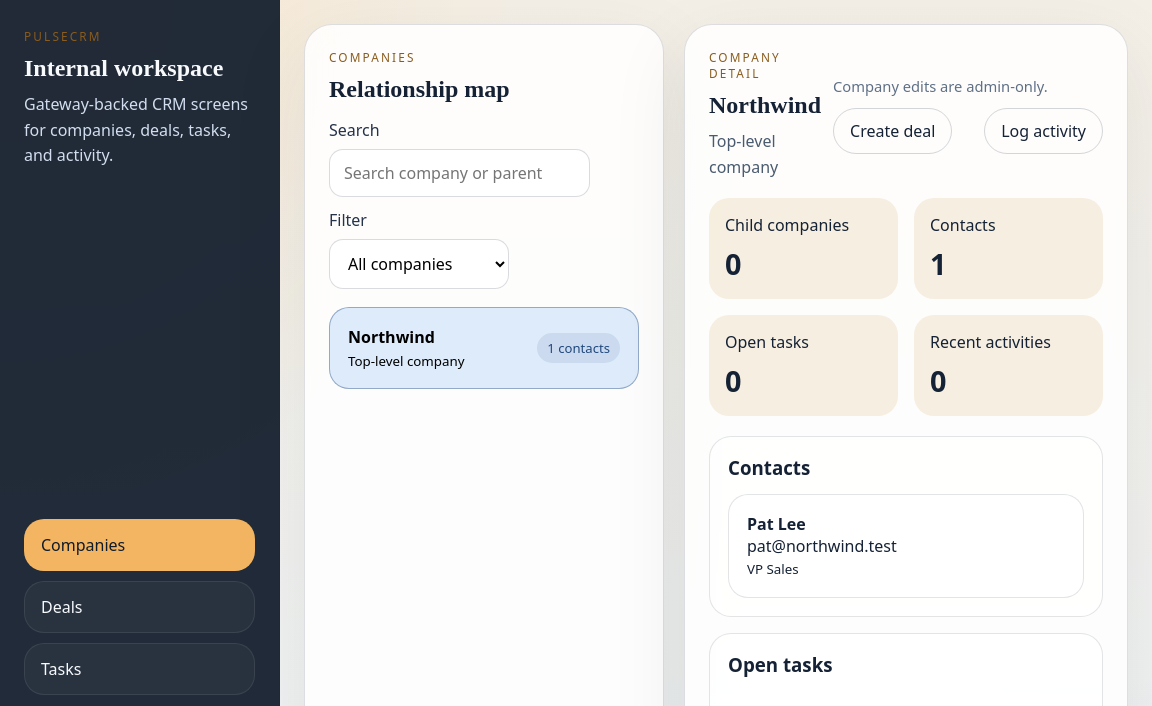
hides task creation controls for sales reps
This screenshot has width=1152, height=706.
Expected: the heading "Northwind" is shown, [709,93,821,117]
Expected: the button "Create deal" is shown, [833,108,952,154]
Click the button "Tasks" at (140, 669), box [24,643,255,695]
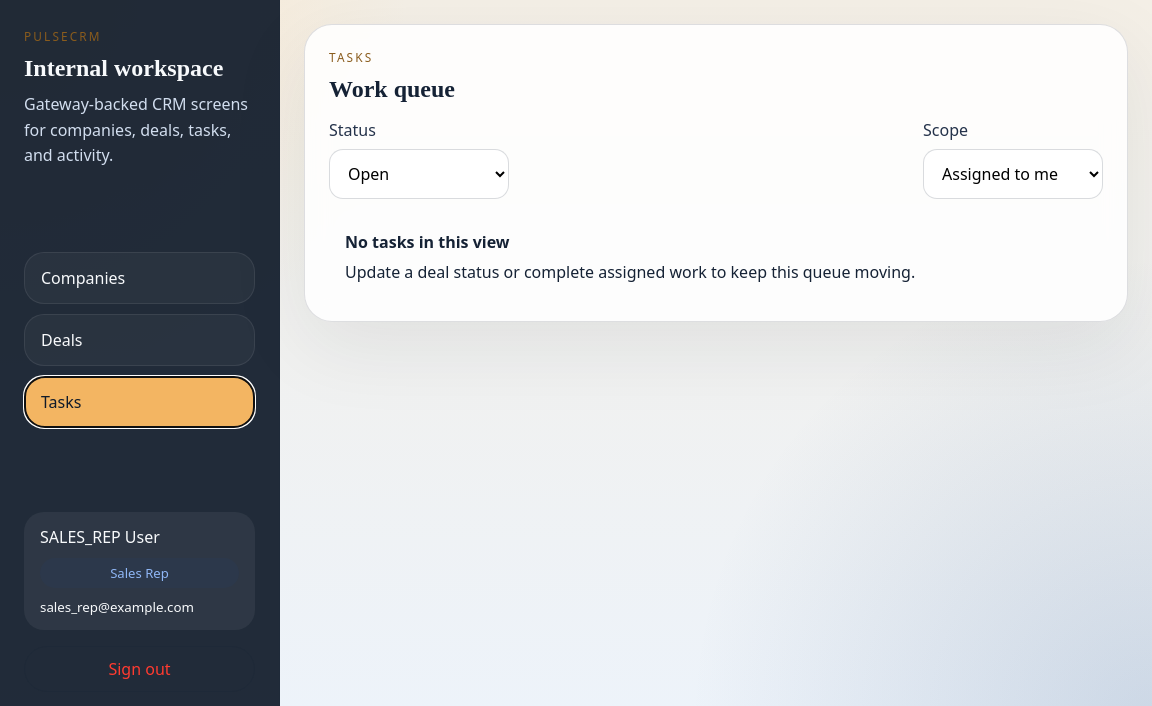
Result: the heading "Work queue" is shown at [329,77,455,101]
